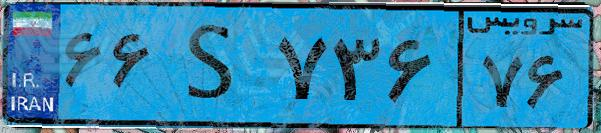3: (330, 28, 385, 110)
6: (385, 28, 445, 110), (57, 26, 110, 100), (525, 38, 570, 115), (110, 28, 158, 98)
7: (270, 28, 330, 110), (475, 38, 525, 113)
S: (158, 12, 270, 120)
